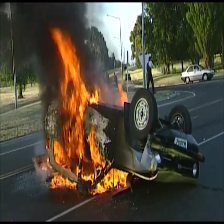fire_h: (49, 26, 113, 185), (90, 167, 128, 195), (49, 172, 77, 190)
fire_l: (117, 82, 128, 107), (41, 157, 53, 171)
